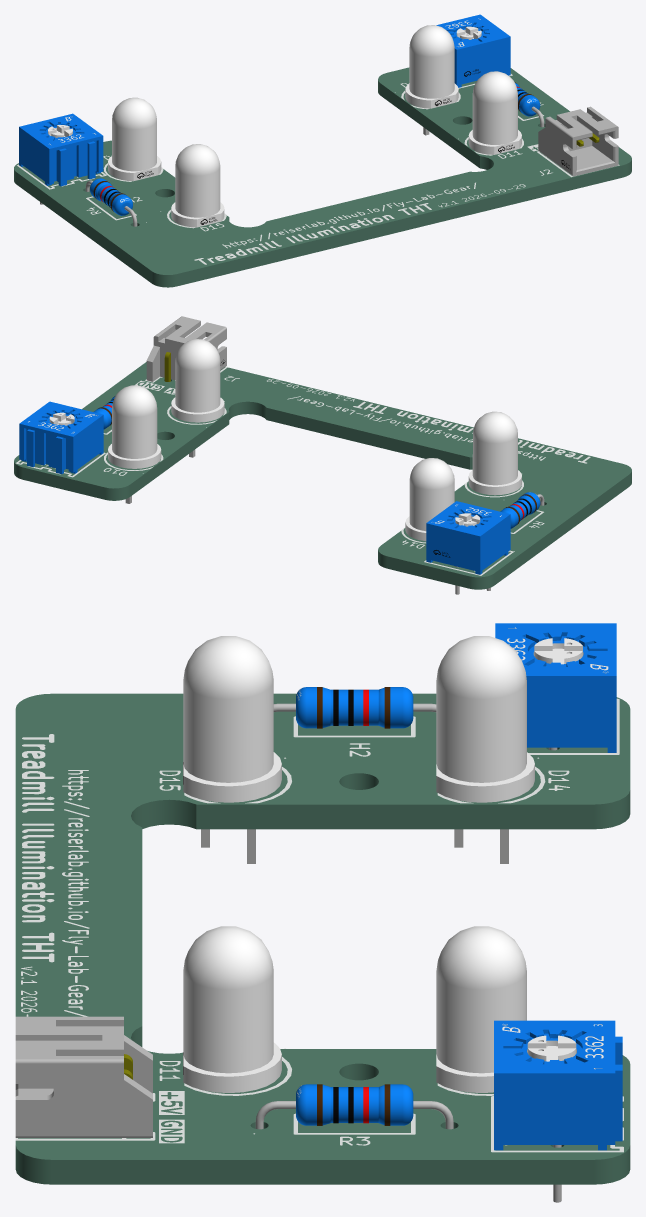
File: Treadmill-Illumination-v2-tht-v2.1.glb
3 views of the same model, one above another, from view 1: azimuth 30°, elevation 25°; view 2: azimuth 150°, elevation 25°; view 3: azimuth 270°, elevation 25° (orthographic). The views are drawn at different scales.
Parts seen in each view (by area): view 1: =>[0:1:1:12], =>[0:1:1:3] (×4), =>[0:1:1:7] (×2), =>[0:1:1:5], =>[0:1:1:10], =>[0:1:1:9] (×2); view 2: =>[0:1:1:12], =>[0:1:1:3] (×4), =>[0:1:1:7] (×2), =>[0:1:1:10], =>[0:1:1:5], =>[0:1:1:9]; view 3: =>[0:1:1:12], =>[0:1:1:3] (×4), =>[0:1:1:7] (×2), =>[0:1:1:5], =>[0:1:1:10], =>[0:1:1:9] (×2).
Part boxes in pixels (x1,y1,x2,y2): =>[0:1:1:12]: (14,67,631,287); =>[0:1:1:3] (×4): (108,25,521,227); =>[0:1:1:7] (×2): (19,14,510,204); =>[0:1:1:5]: (538,106,618,176); =>[0:1:1:10]: (17,74,619,264); =>[0:1:1:9] (×2): (85,82,544,226); =>[0:1:1:12]: (14,362,631,589); =>[0:1:1:3] (×4): (108,339,521,541); =>[0:1:1:7] (×2): (19,401,510,594); =>[0:1:1:10]: (15,366,590,575); =>[0:1:1:5]: (146,316,226,381); =>[0:1:1:9]: (500,492,544,528); =>[0:1:1:12]: (15,693,630,1184); =>[0:1:1:3] (×4): (183,636,534,1092); =>[0:1:1:7] (×2): (494,623,622,1202); =>[0:1:1:5]: (15,1016,152,1137); =>[0:1:1:10]: (15,698,623,1152); =>[0:1:1:9] (×2): (255,687,453,1129).
Size of the model in its own units: 0.061 by 0.0136 by 0.034.
